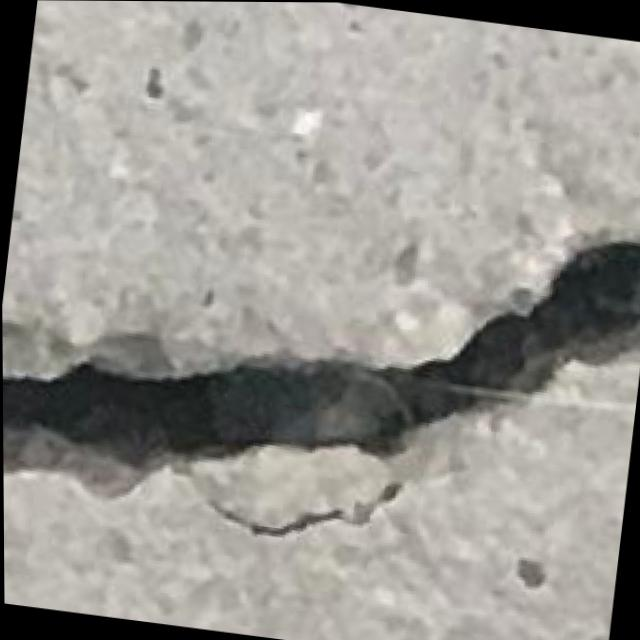Crack: (1, 128, 640, 585)
